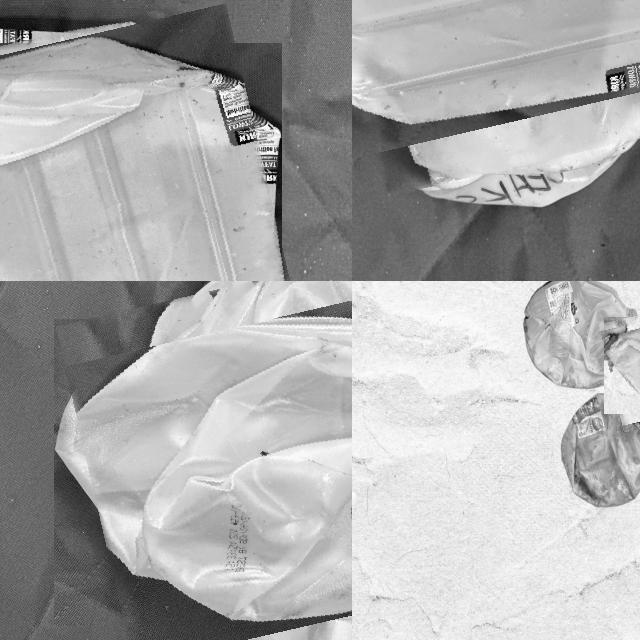milk-jug: (75, 281, 352, 640), (0, 14, 292, 281), (352, 0, 640, 182), (522, 281, 640, 390), (559, 392, 640, 511), (604, 304, 640, 426)
